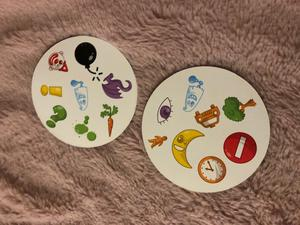arbre: (221, 96, 258, 122)
bombe: (73, 41, 104, 80)
bonhomme: (147, 132, 169, 151)
carotte: (97, 102, 118, 139)
clown: (46, 50, 70, 74)
dragon: (98, 71, 132, 102)
fantome: (181, 73, 207, 112), (69, 78, 89, 113)
horloge: (195, 153, 227, 183)
lune: (168, 128, 205, 171)
oeuil: (155, 96, 176, 127)
point_exclamation: (39, 82, 66, 100)
point_interrogation: (71, 114, 97, 142)
sens_interdit: (221, 131, 256, 163)
tortue: (43, 104, 68, 130)
voiture: (191, 101, 221, 130)
